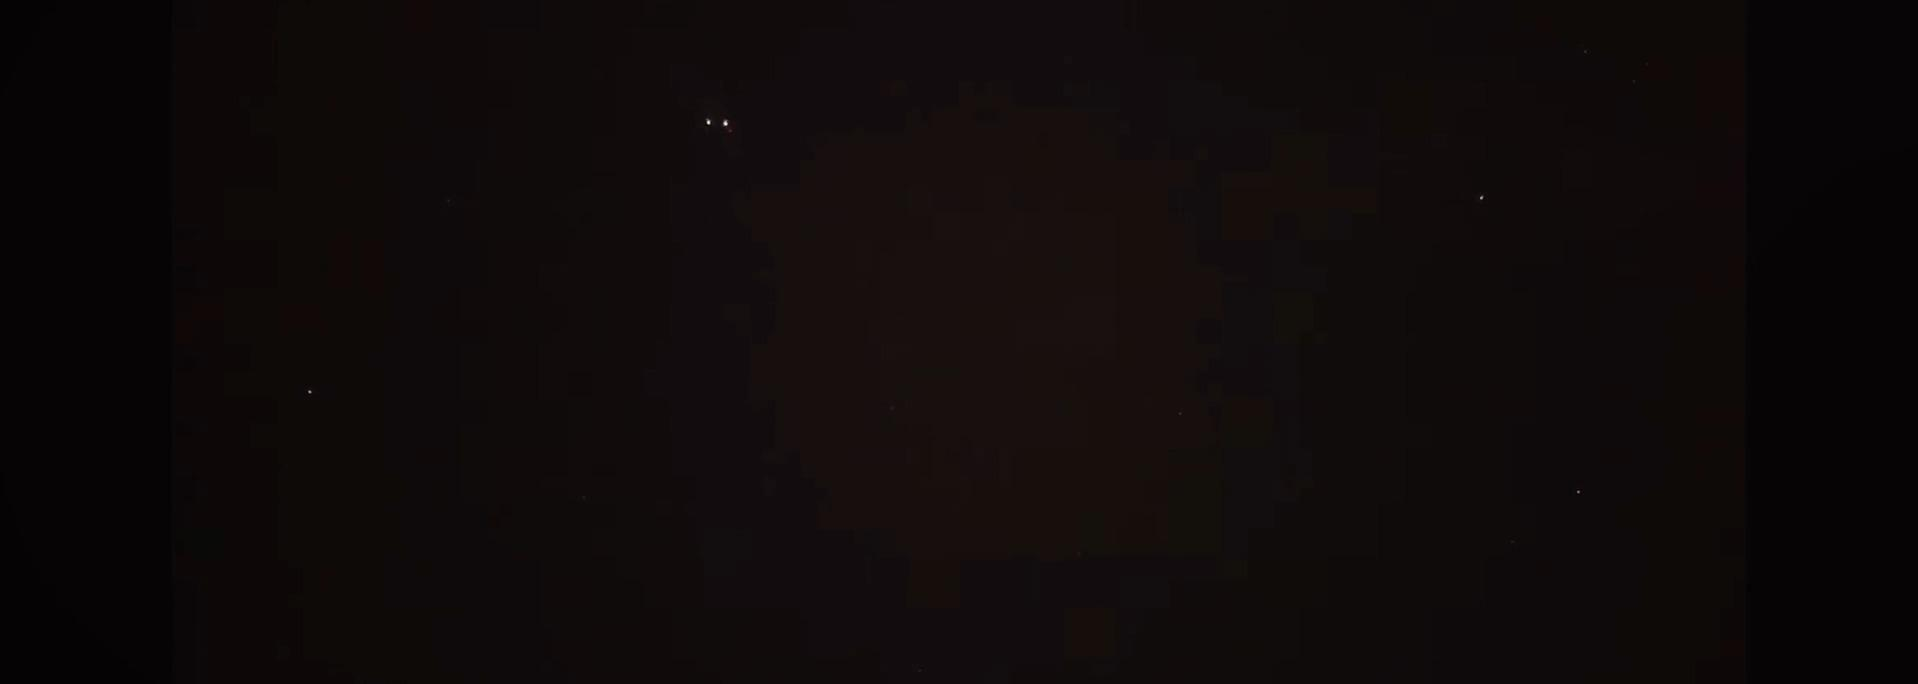Plane: (676, 104, 765, 146)
